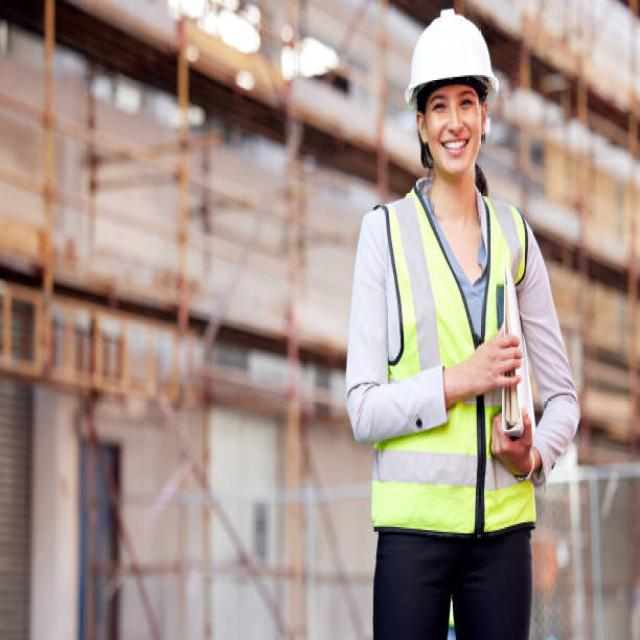Hard Hat: (401, 7, 504, 112)
Reflective Vest: (364, 191, 534, 548)
